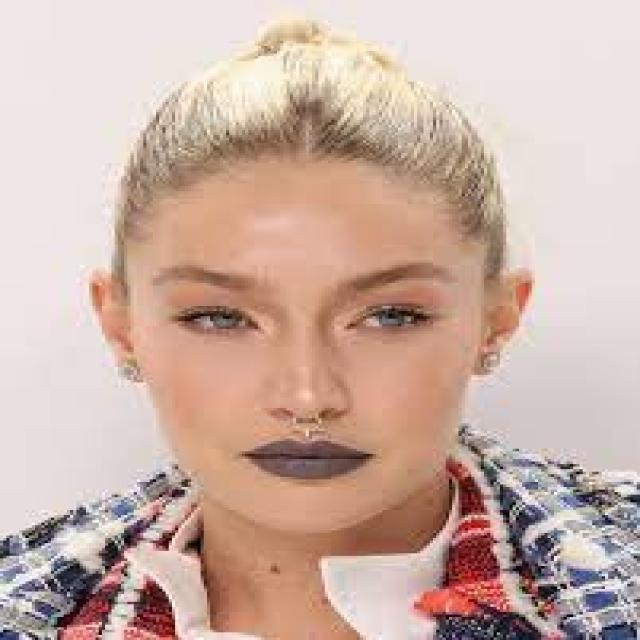Earring: (106, 350, 158, 398), (470, 346, 514, 376)
